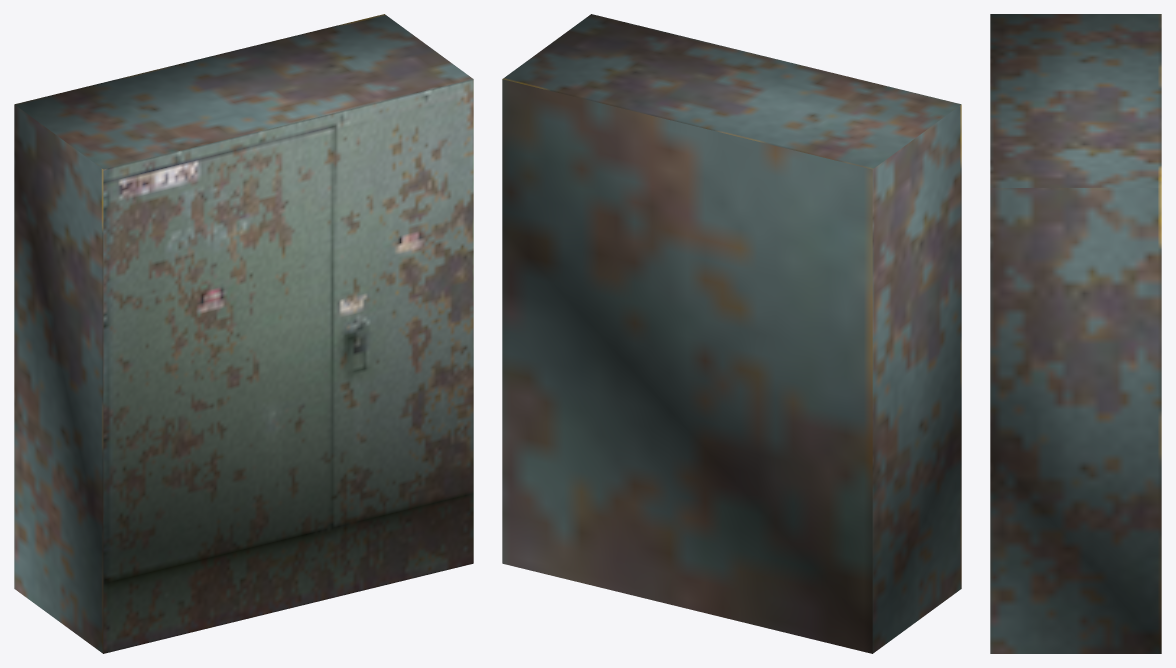
File: transformerbox.glb
The picture shows the model from 3 angles, left to right: view 1: azimuth 30°, elevation 25°; view 2: azimuth 150°, elevation 25°; view 3: azimuth 270°, elevation 25°; orthographic projection. The views are drawn at different scales.
Parts seen in each view (by area): view 1: TransformerBox; view 2: TransformerBox; view 3: TransformerBox.
Part boxes in pixels (x1,y1,x2,y2): TransformerBox: [14, 14, 473, 653]; TransformerBox: [502, 14, 961, 653]; TransformerBox: [990, 14, 1161, 653].
Size of the model in its own units: 1.2 by 1.5 by 0.5.
1 material, 1 textured.
